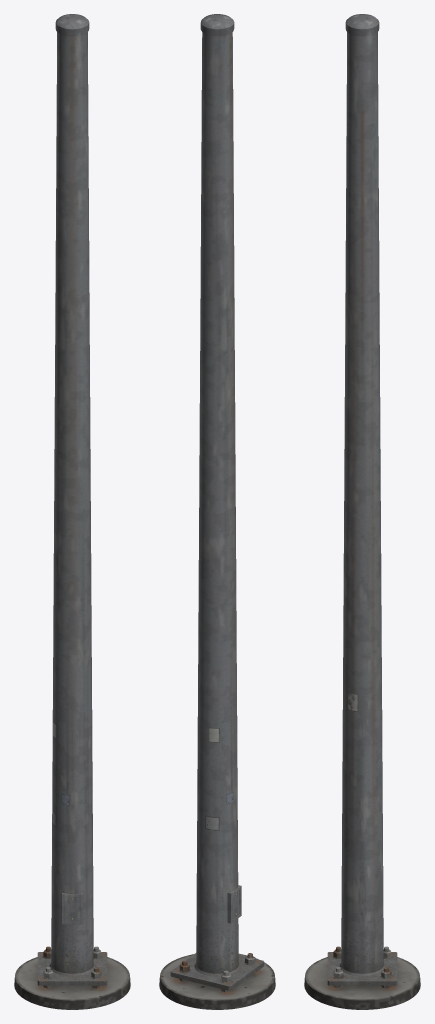
Rendered from mastPole-v1-galvanised.glb.
3 views of the same model, side by side, from view 1: azimuth 90°, elevation 25°; view 2: azimuth 150°, elevation 25°; view 3: azimuth 270°, elevation 25° (orthographic).
Parts seen in each view (by area): view 1: mastPole-v1-galvanised; view 2: mastPole-v1-galvanised; view 3: mastPole-v1-galvanised.
Boxes of the visible parts, <box> form: mastPole-v1-galvanised: <box>14,14,130,1009</box>; mastPole-v1-galvanised: <box>159,14,275,1009</box>; mastPole-v1-galvanised: <box>304,14,420,1009</box>.
Size of the model in its own units: 0.762 by 6.99 by 0.762.
Materials: 1 (1 with a texture image).
